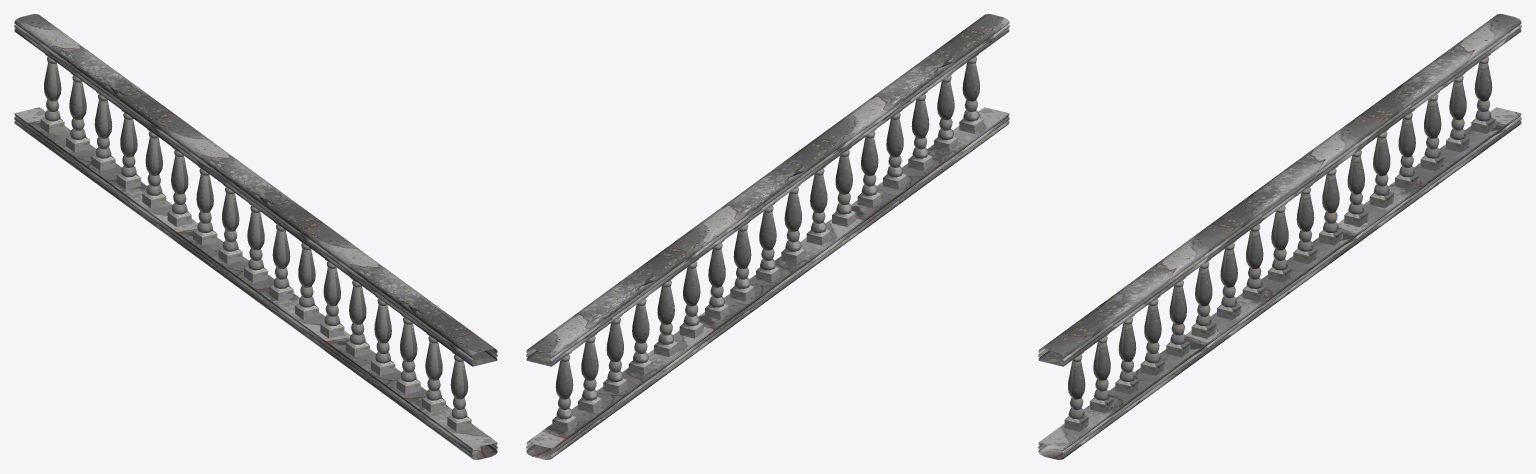
Rendered from Railing_11.fbx.
The picture shows the model from 3 angles, left to right: view 1: azimuth 30°, elevation 25°; view 2: azimuth 150°, elevation 25°; view 3: azimuth 330°, elevation 25°; orthographic projection.
Visible parts, largest first — view 1: Railing_11; view 2: Railing_11; view 3: Railing_11.
Part boxes in pixels (box(x1,y1,x2,y2)): Railing_11: box(14, 14, 497, 459); Railing_11: box(526, 14, 1009, 459); Railing_11: box(1038, 14, 1521, 459).
Bounding box in the file's own units: 21.8 × 86.75 × 670.
